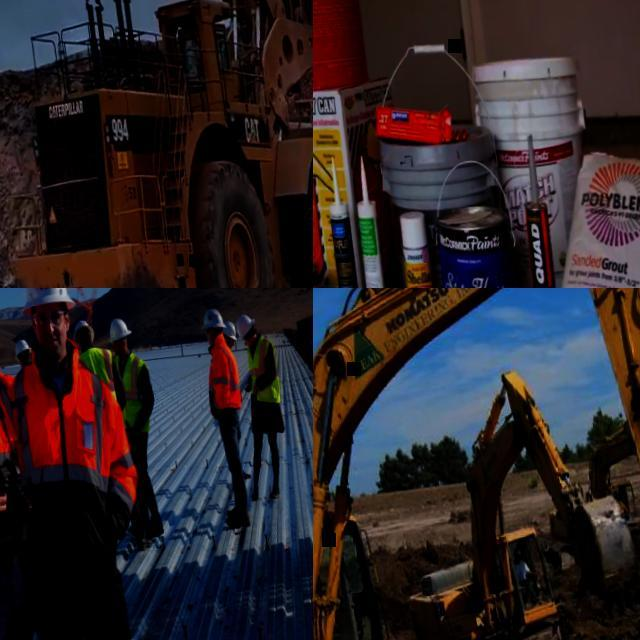Helmet: (26, 287, 86, 319), (104, 322, 140, 354), (193, 307, 226, 332), (79, 324, 101, 348), (222, 316, 240, 340), (14, 333, 32, 355), (241, 313, 255, 338)
Robbery: (0, 287, 137, 640), (188, 307, 252, 543), (107, 313, 161, 535), (244, 313, 293, 514), (0, 370, 20, 535), (77, 317, 103, 378), (10, 327, 32, 375), (227, 317, 237, 358)
